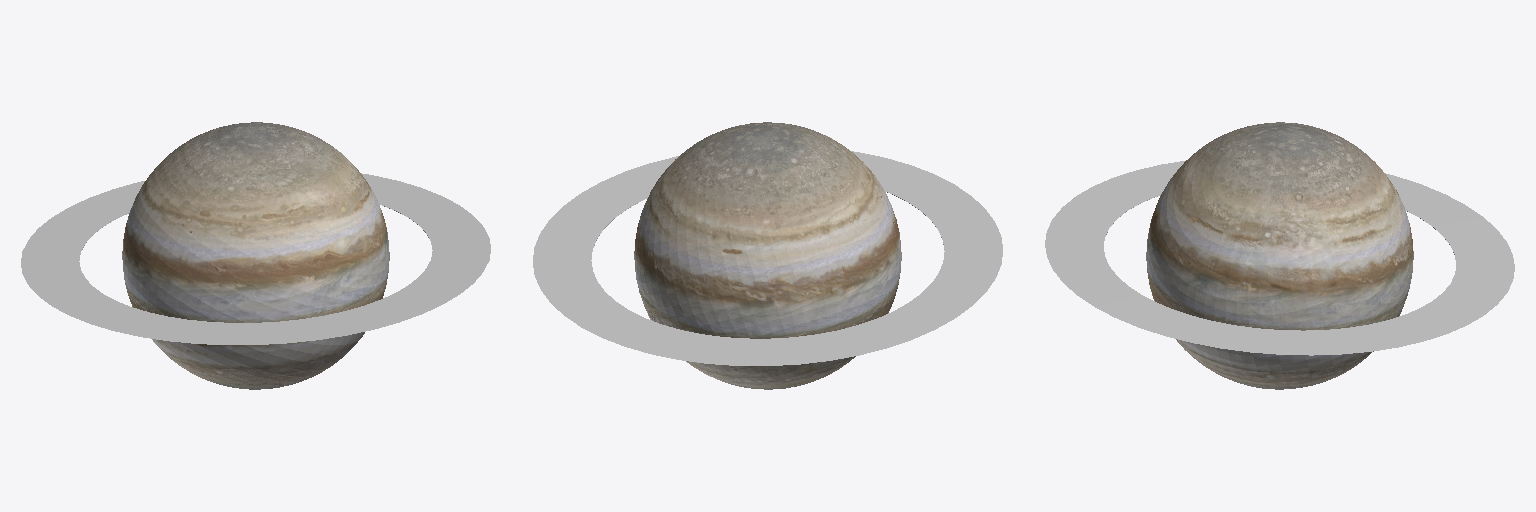
3 views of the same model, side by side, from view 1: azimuth 30°, elevation 25°; view 2: azimuth 150°, elevation 25°; view 3: azimuth 270°, elevation 25° (orthographic).
Parts seen in each view (by area): view 1: Sphere, Torus.001; view 2: Sphere, Torus.001; view 3: Sphere, Torus.001.
Part boxes in pixels (bbox=[...]): Sphere: bbox=[122, 122, 389, 389]; Torus.001: bbox=[21, 173, 490, 344]; Sphere: bbox=[634, 122, 901, 389]; Torus.001: bbox=[533, 151, 1002, 365]; Sphere: bbox=[1146, 122, 1413, 389]; Torus.001: bbox=[1045, 161, 1514, 355].
Bounding box in the file's own units: 3.52 × 2 × 3.52.
Materials: 2 (1 with a texture image).